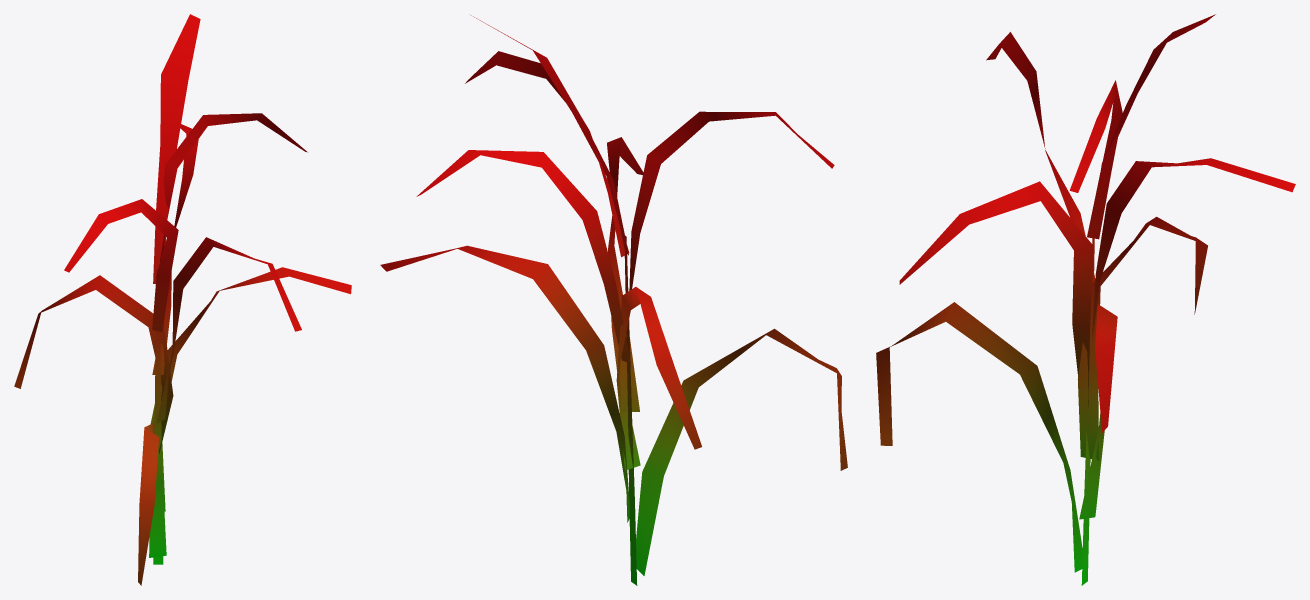
The model's file is Great Brome_LOD4_Var6_tjugaikia.fbx.
3 views of the same model, side by side, from view 1: azimuth 30°, elevation 25°; view 2: azimuth 150°, elevation 25°; view 3: azimuth 270°, elevation 25° (orthographic). The views are drawn at different scales.
Visible parts, largest first — view 1: _bb46_Var6_LOD4; view 2: _bb46_Var6_LOD4; view 3: _bb46_Var6_LOD4.
Boxes of the visible parts, left/top/right/bottom form: _bb46_Var6_LOD4: left=14, top=14, right=351, bottom=585; _bb46_Var6_LOD4: left=380, top=15, right=847, bottom=585; _bb46_Var6_LOD4: left=876, top=14, right=1295, bottom=585.
Bounding box in the file's own units: 44.14 × 62.41 × 38.21.
